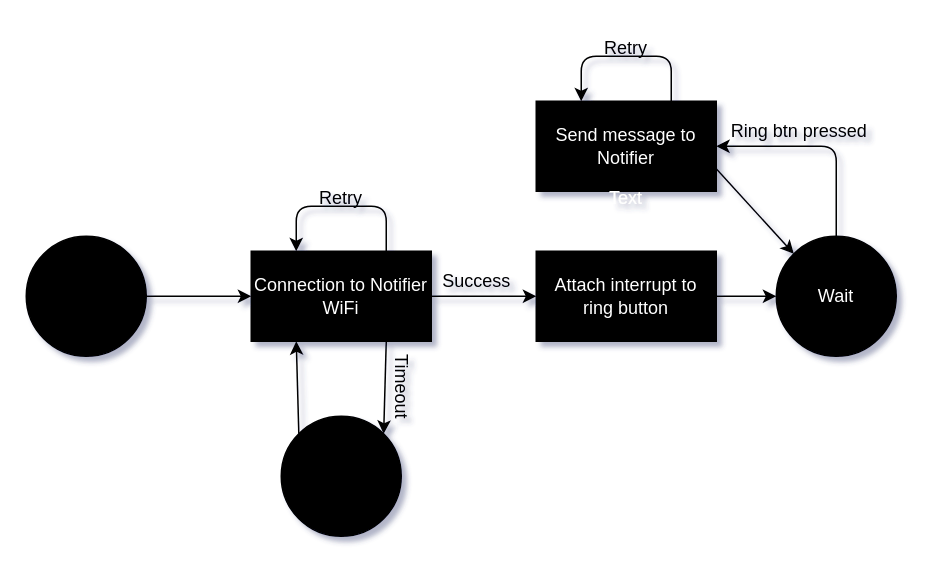
Image size: 932x572. Some labels were removed from this diagram. The shapes that lost their labels are listed below. From the top down, each one's centre as x and y in pixels, then its label:
point 85,295: Start
point 340,475: Sleep
